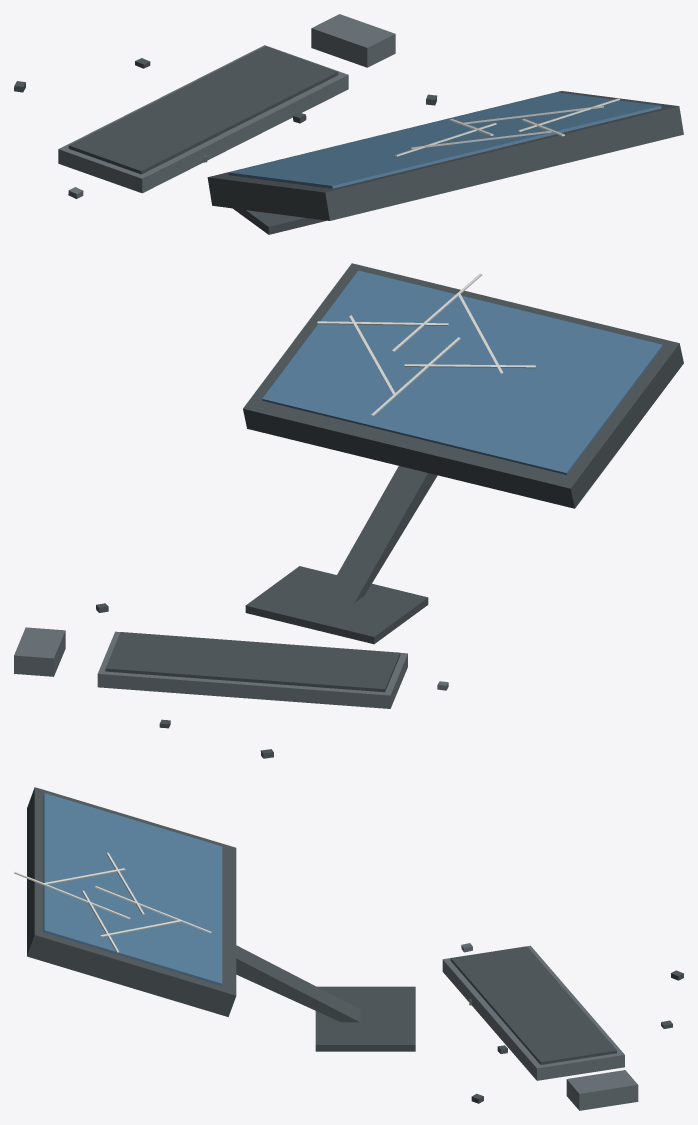
Rendered from monitor_broken.fbx.
3 views of the same model, one above another, from view 1: azimuth 30°, elevation 25°; view 2: azimuth 150°, elevation 25°; view 3: azimuth 270°, elevation 25° (orthographic). The views are drawn at different scales.
Visible parts, largest first — view 1: monitor_broken, monitor_broken_debris; view 2: monitor_broken; view 3: monitor_broken, monitor_broken_debris.
Part boxes in pixels (box(x1,y1,x2,y2)): monitor_broken: box(58, 14, 683, 234); monitor_broken_debris: box(14, 58, 437, 198); monitor_broken: box(14, 263, 683, 708); monitor_broken: box(14, 787, 638, 1110); monitor_broken_debris: box(461, 943, 683, 1103).
Size of the model in its own units: 61.81 by 30.31 by 107.
